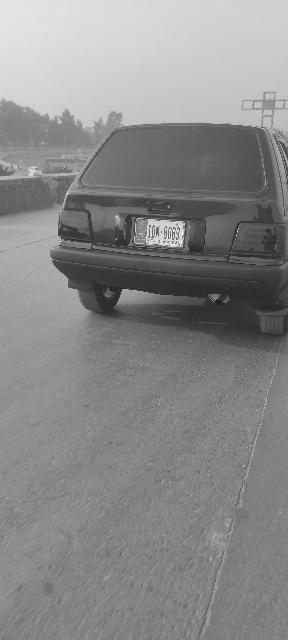Number: (148, 225, 182, 242)
